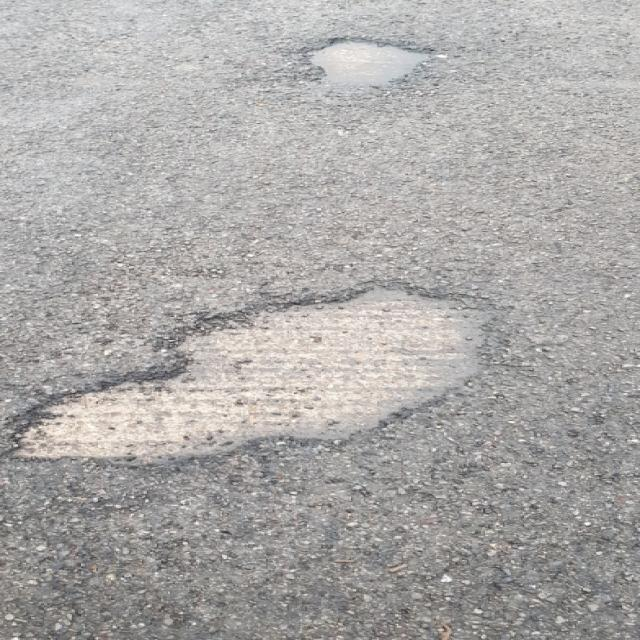Pothole: (1, 273, 512, 471), (289, 35, 441, 92)
